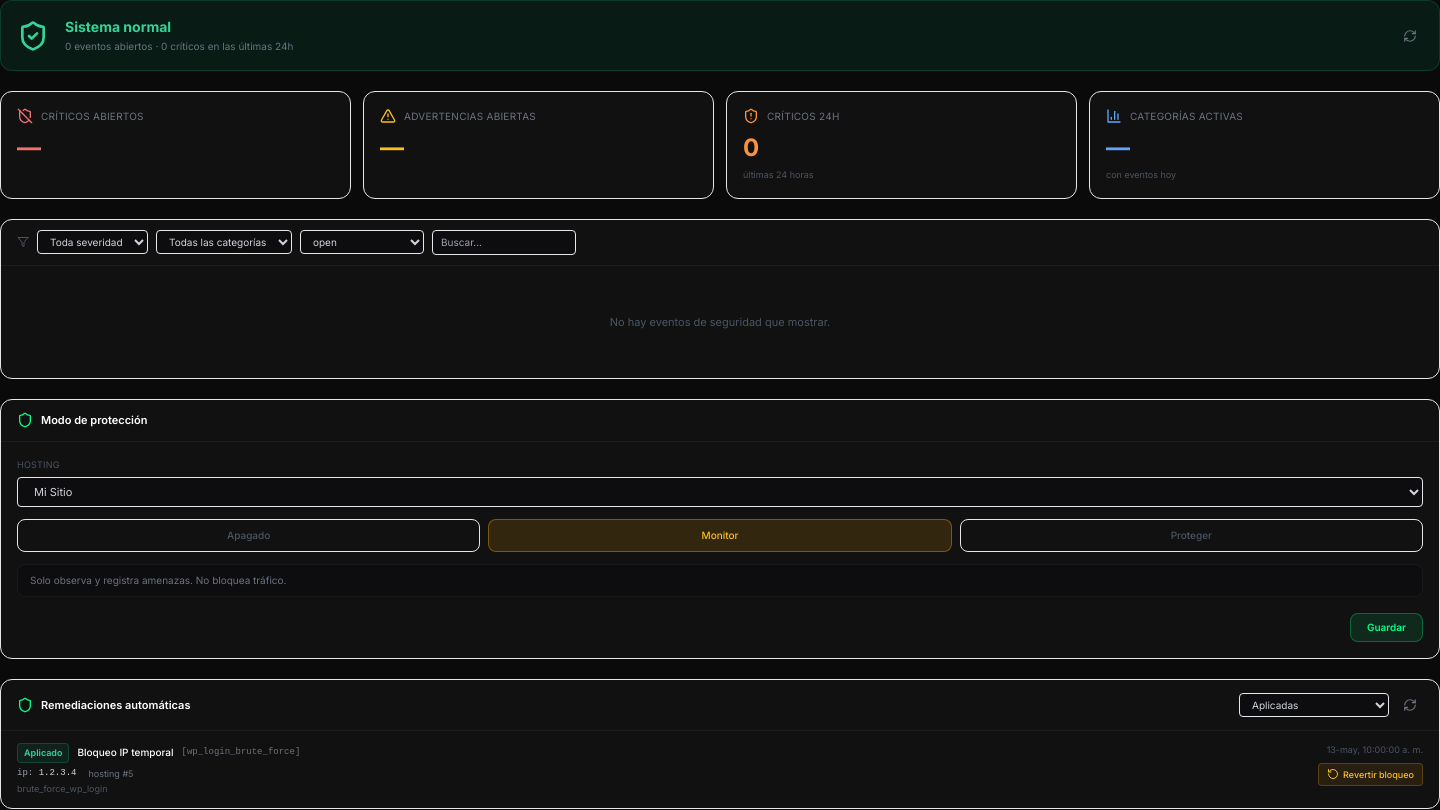
it: SecurityCenter — RemediationsSection › rollback button hidden after successful rollback (optimistic + API refresh)
What coordinates should you click on to do the following:
click the button with test id "rollback-btn"
I would click on:
 (1371, 774)
Its box is [1318,762,1423,786].
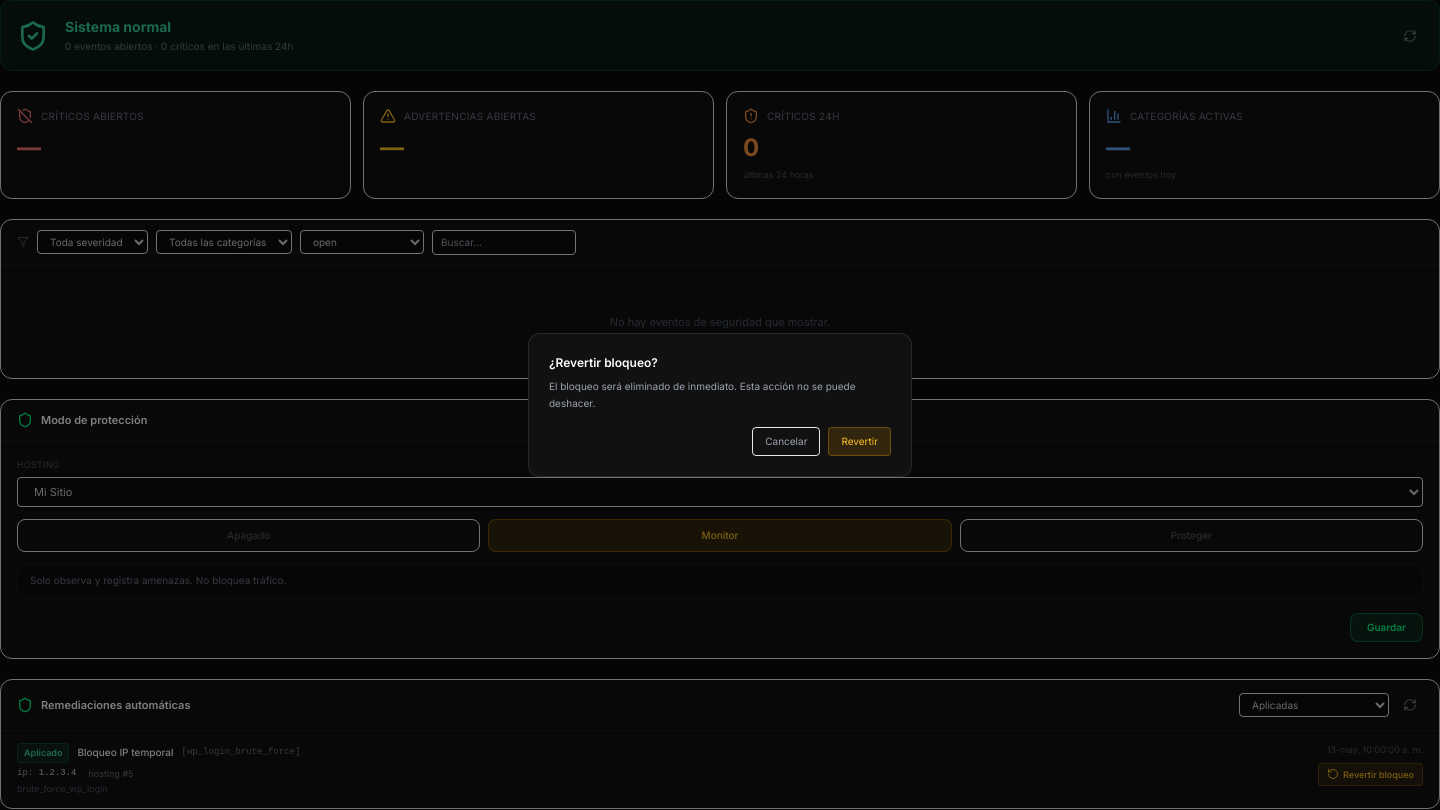
Check: the button with test id "rollback-confirm-btn" is shown
What coordinates should you click on to do the following:
click the button with test id "rollback-confirm-btn"
I would click on:
 (860, 441)
Its box is [828,427,891,456].
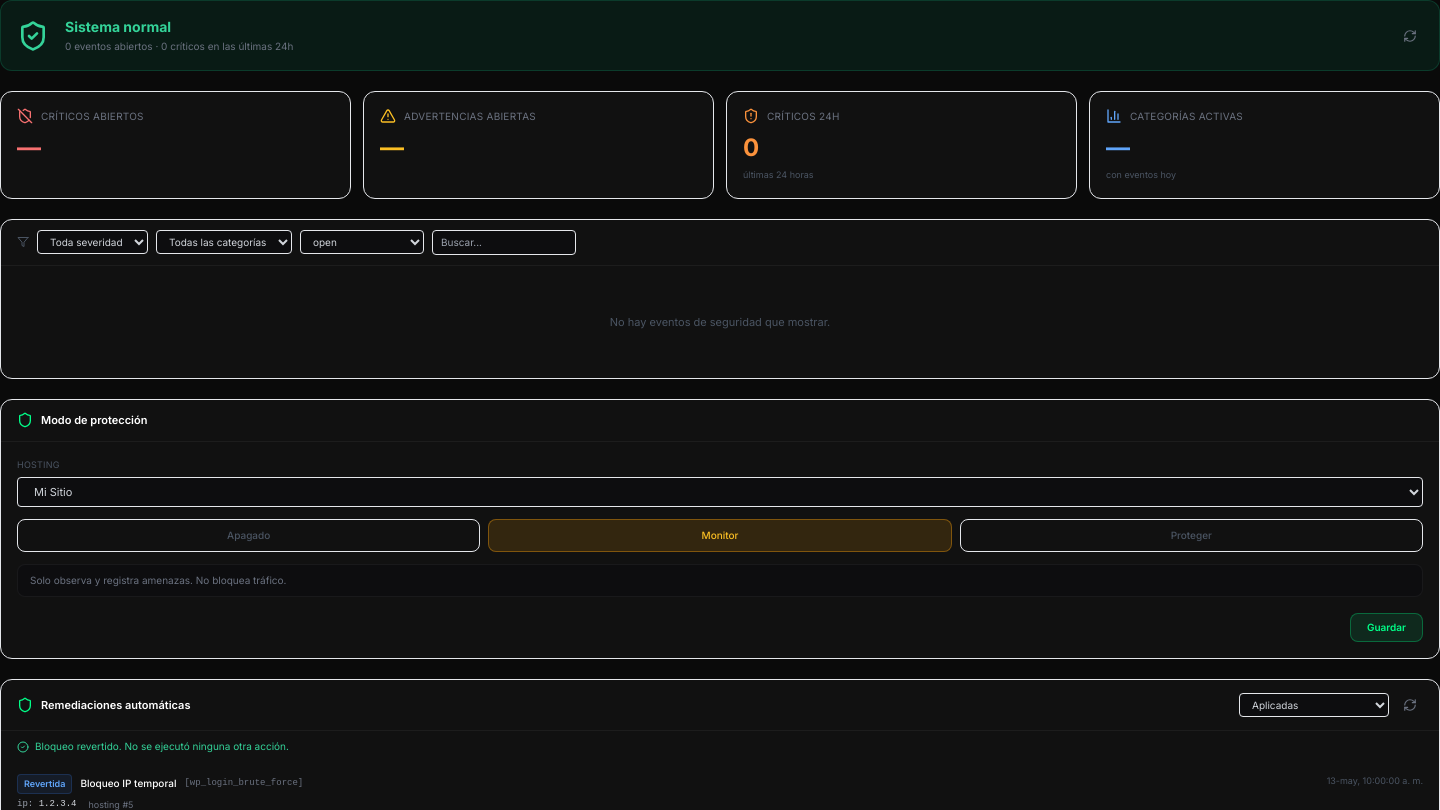
Check: the button with test id "rollback-btn" is gone
